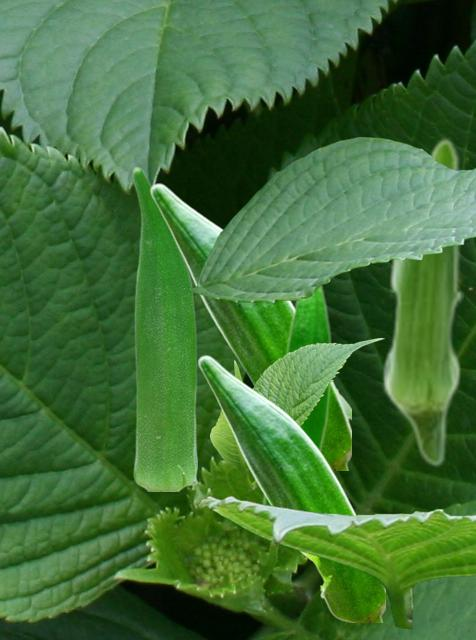okra: (149, 183, 350, 469), (197, 355, 384, 621), (381, 137, 462, 467), (132, 166, 196, 490), (259, 285, 332, 504)
